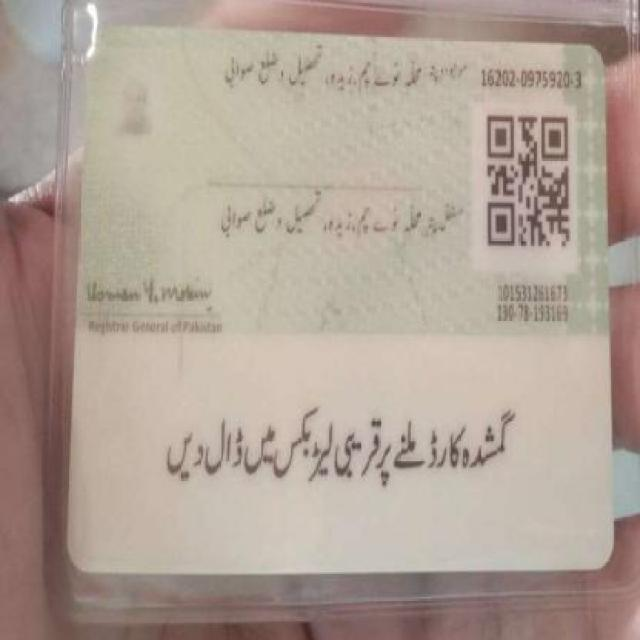Back: (63, 17, 623, 585)
